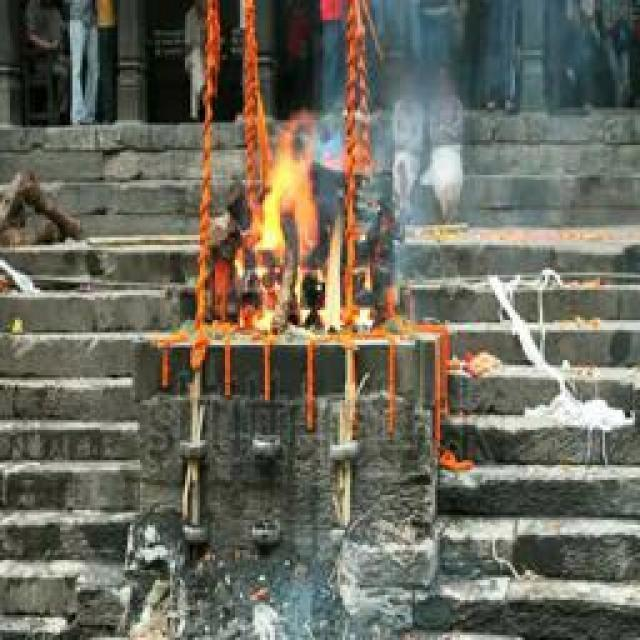Fire: (249, 119, 348, 338)
